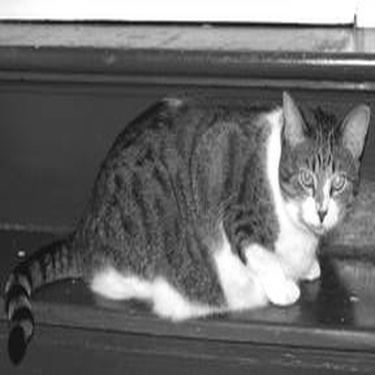cat: (26, 88, 370, 321)
